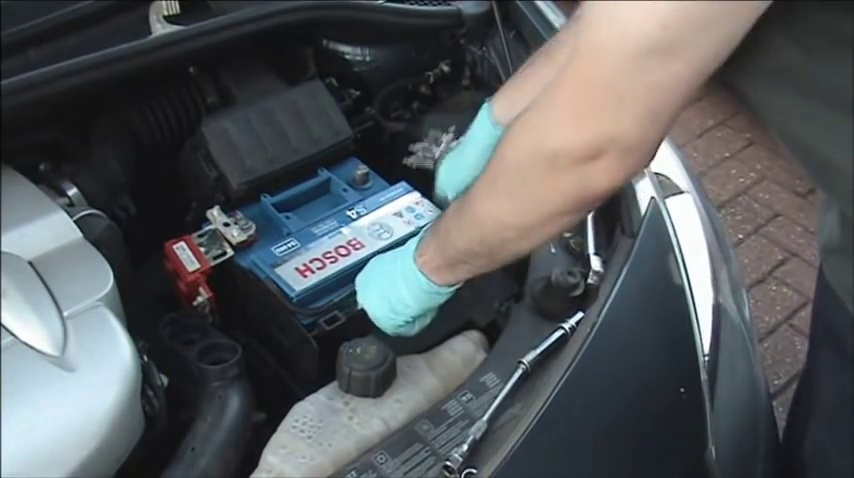battery: (165, 130, 441, 326)
neg_disconnected: (331, 146, 392, 195)
pos_connected: (171, 202, 266, 288)
